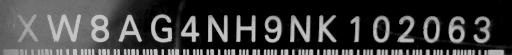letter: (46, 12, 82, 43), (114, 11, 146, 44), (146, 11, 178, 44), (230, 9, 260, 44), (12, 11, 44, 42), (312, 11, 342, 44), (468, 11, 496, 46), (286, 11, 314, 44), (203, 12, 231, 43), (444, 14, 472, 45), (86, 11, 112, 44), (392, 13, 418, 44), (367, 13, 393, 44), (176, 11, 200, 44), (345, 12, 369, 45), (261, 12, 283, 45), (420, 12, 442, 43)
